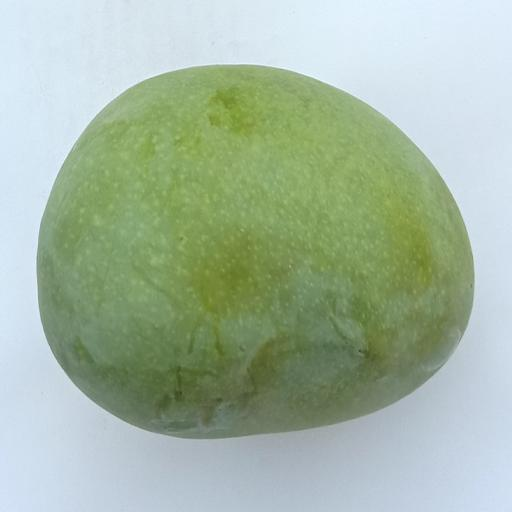mango-unripe: (14, 52, 507, 463)
